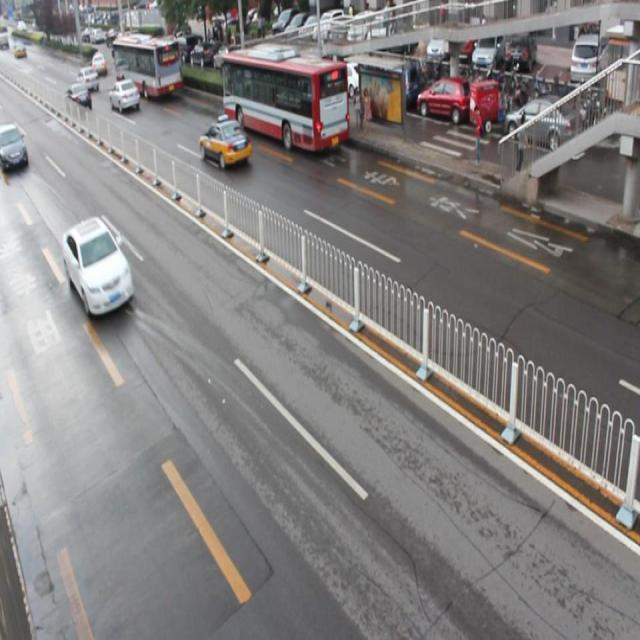car: (62, 215, 134, 316), (198, 118, 251, 170)
van: (222, 51, 348, 152)
